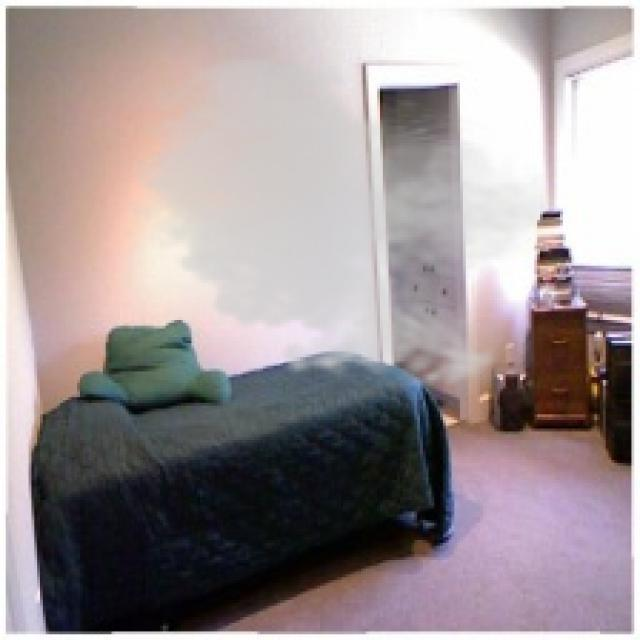Smoke: (120, 49, 546, 398)
